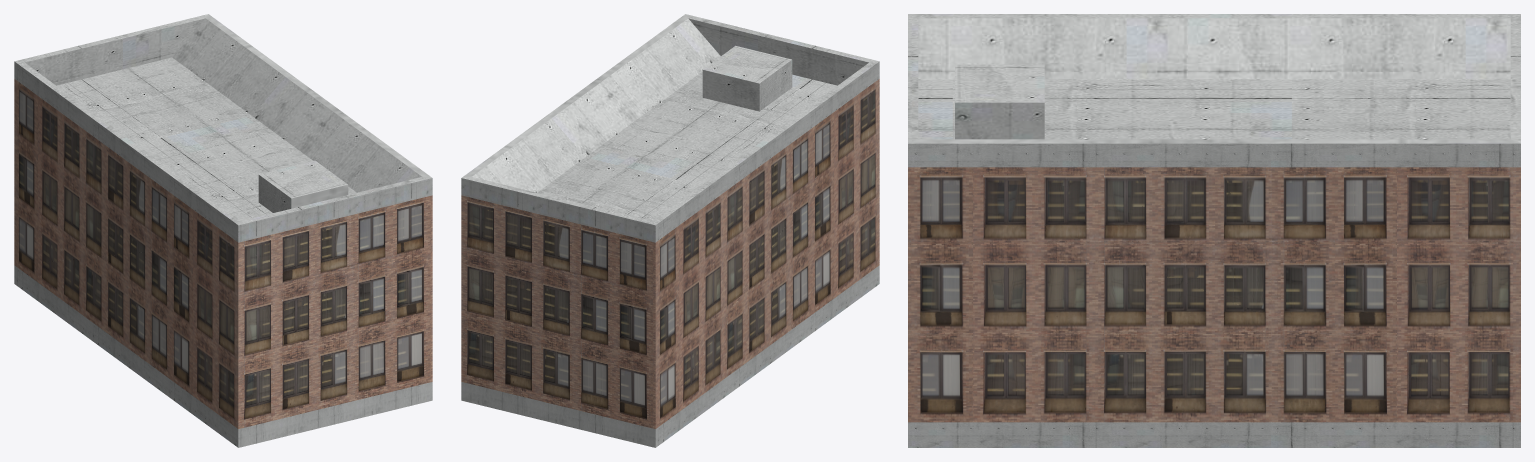
Rendered from building_short.obj.
3 renders of one model, left to right at view 1: azimuth 30°, elevation 25°; view 2: azimuth 150°, elevation 25°; view 3: azimuth 270°, elevation 25°, orthographic. The views are drawn at different scales.
Parts seen in each view (by area): view 1: Cube.005_Cube.000; view 2: Cube.005_Cube.000; view 3: Cube.005_Cube.000.
Part boxes in pixels (<box>): Cube.005_Cube.000: <box>14,14,432,447</box>; Cube.005_Cube.000: <box>461,14,879,447</box>; Cube.005_Cube.000: <box>908,14,1520,447</box>.
Size of the model in its own units: 2.01 by 2.2 by 4.01.
